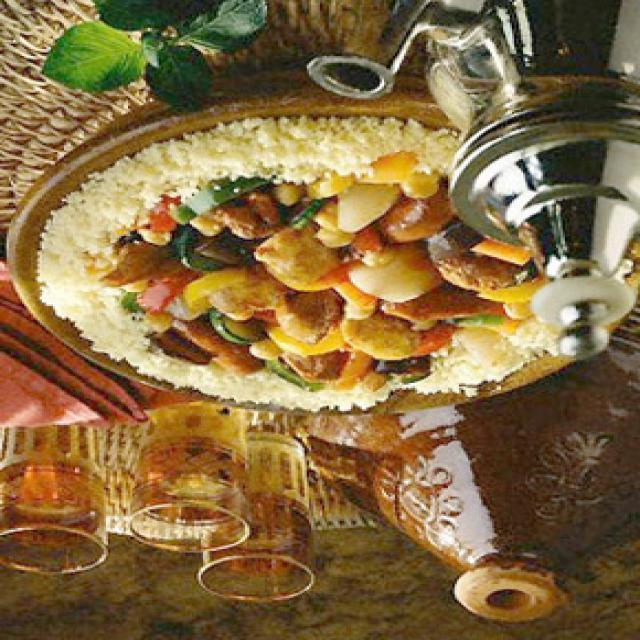Couscous: (12, 94, 611, 415)
